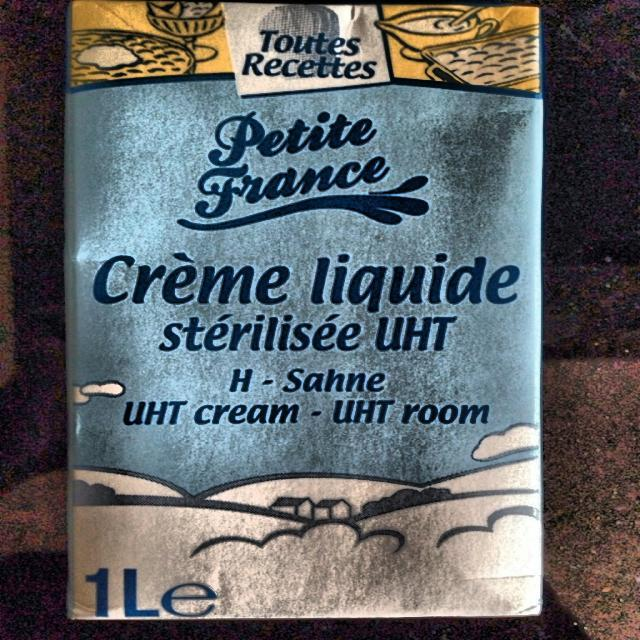cardboard: (64, 1, 545, 620)
